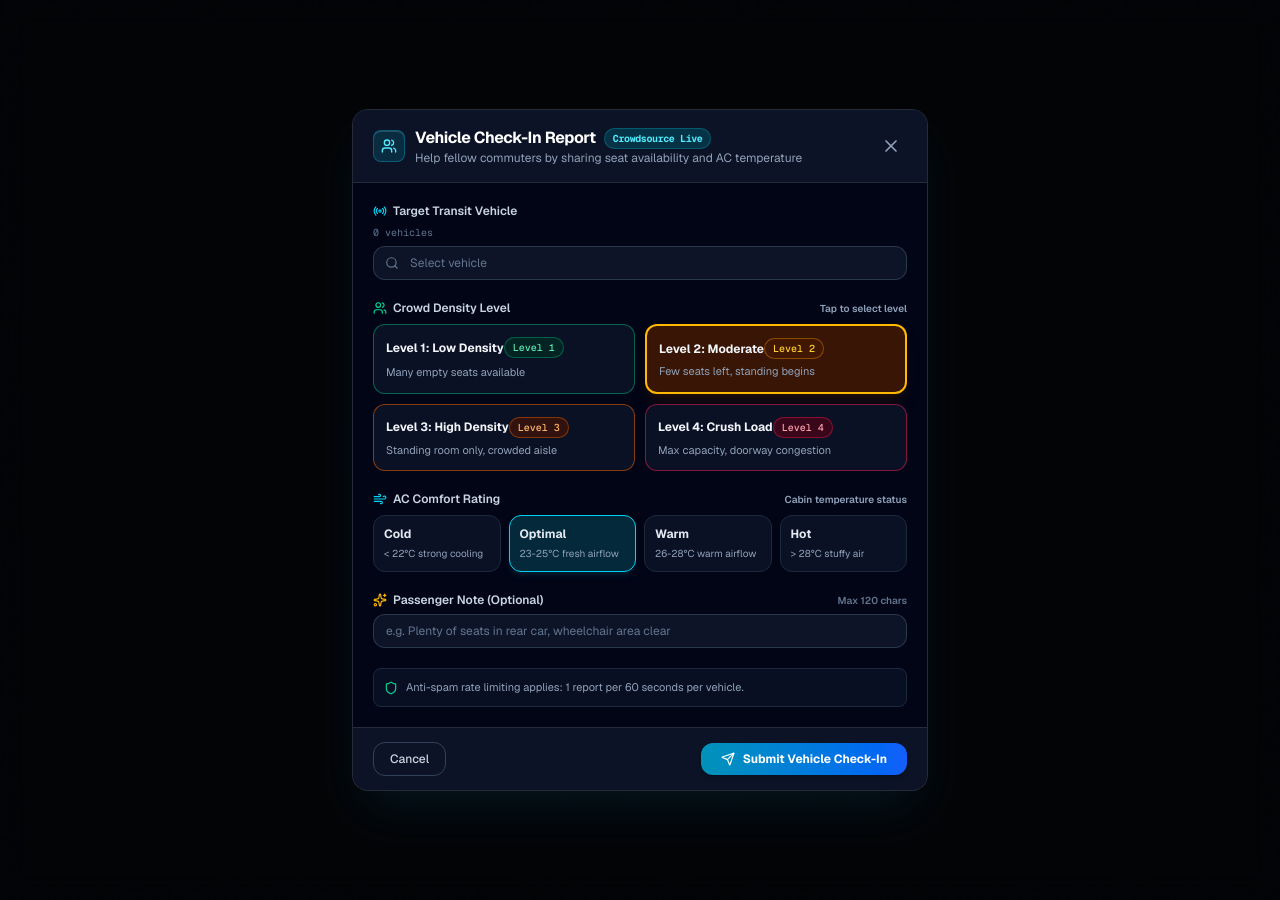
crowd submit validation › empty submit shows the error and never POSTs
The image size is (1280, 900).
Expected: the dialog is shown, [352,109,928,791]
What coordinates should you click on to do the following:
click the button "Submit Vehicle Check-In"
I would click on:
 (804, 759)
Its box is [701,743,907,775].
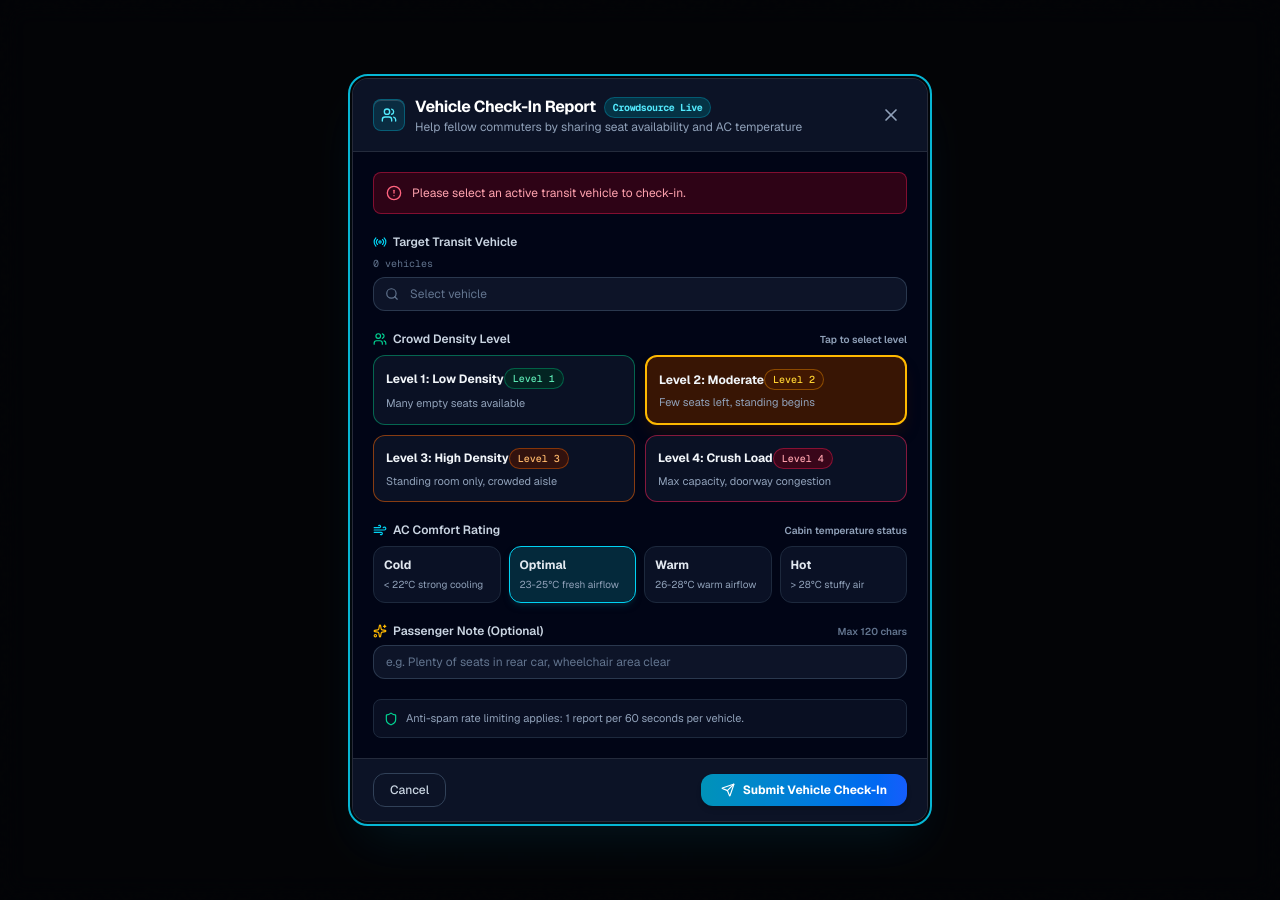
Result: the message shows "select an active transit vehicle" at [412,185,686,201]
